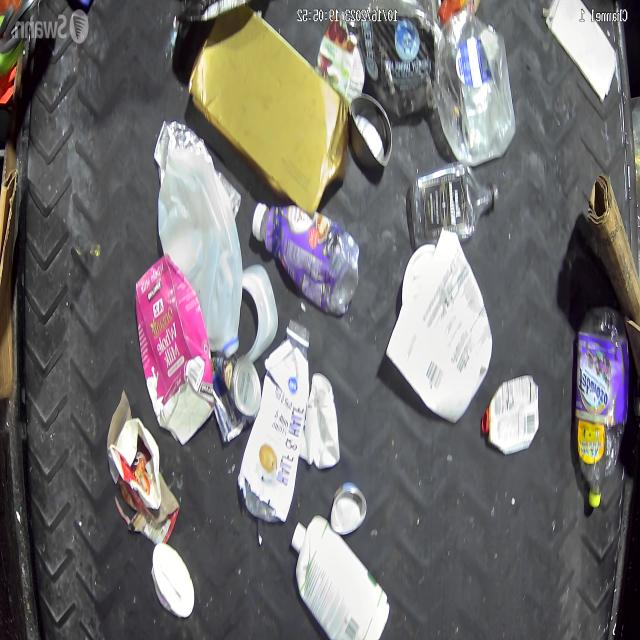can: (316, 9, 366, 103), (349, 94, 392, 170), (214, 358, 261, 416), (330, 482, 368, 535)
milk_jug: (387, 228, 492, 421), (157, 148, 241, 358), (482, 376, 538, 454)
non_white_jug: (134, 253, 215, 444)
plastic_bottle: (575, 308, 627, 508), (408, 160, 498, 243)
